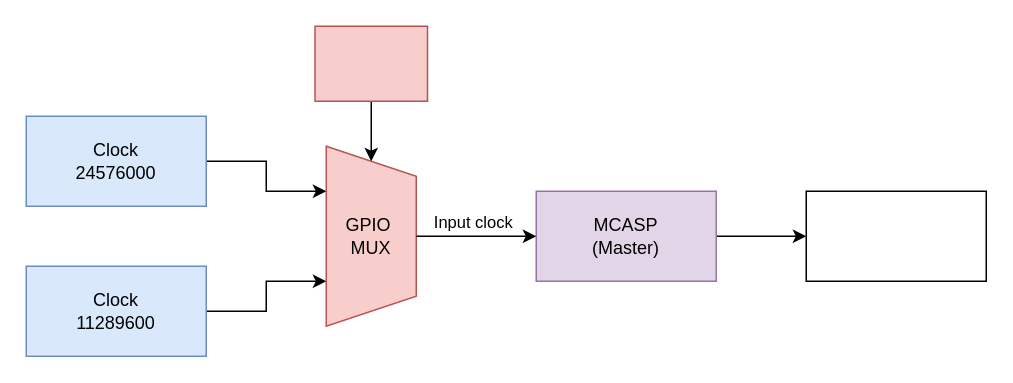
The diagram is 1013 pixels wide and 383 high, and some of its shapes have lost their labels. Here are the shapes that lost their labels. From the top down, the centre of each, then its label:
point 371,63: GPIO High/Low
point 895,235: WM8776 Soundcard (Slave)
